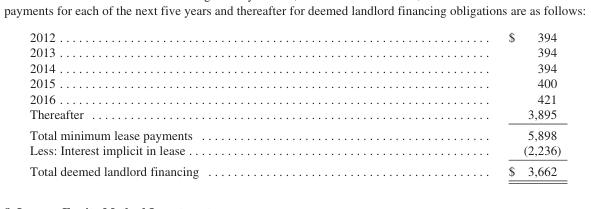table: (28, 29, 560, 177)
table column: (28, 29, 352, 177), (352, 29, 560, 177)
table row: (28, 106, 560, 124), (28, 124, 560, 142), (28, 142, 560, 160), (28, 160, 560, 177), (28, 59, 560, 75), (28, 90, 560, 106), (28, 29, 560, 44), (28, 44, 560, 59), (28, 75, 560, 90)
